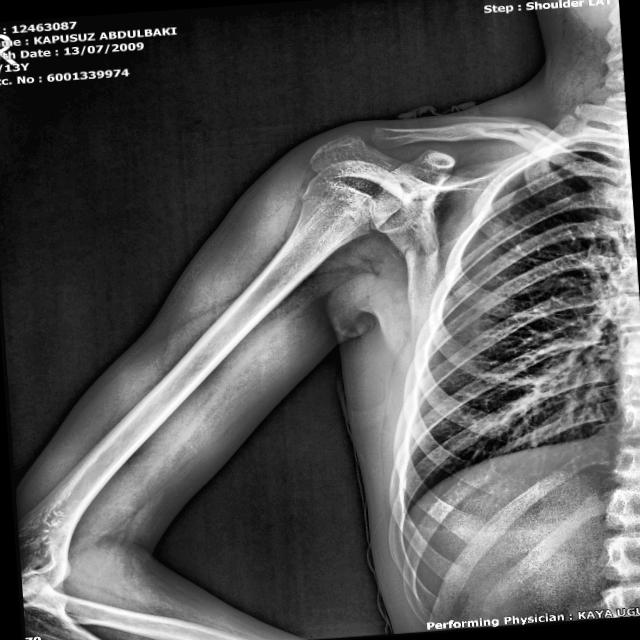Fracture: (473, 112, 554, 149)
